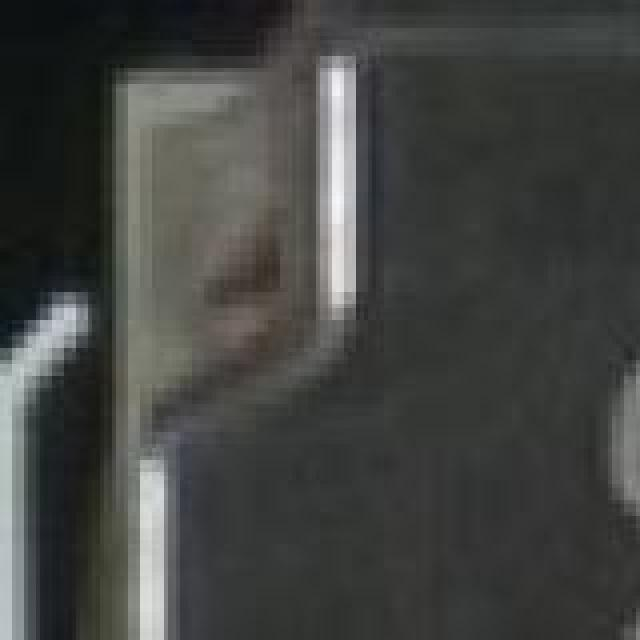inductor: (80, 20, 640, 640)
